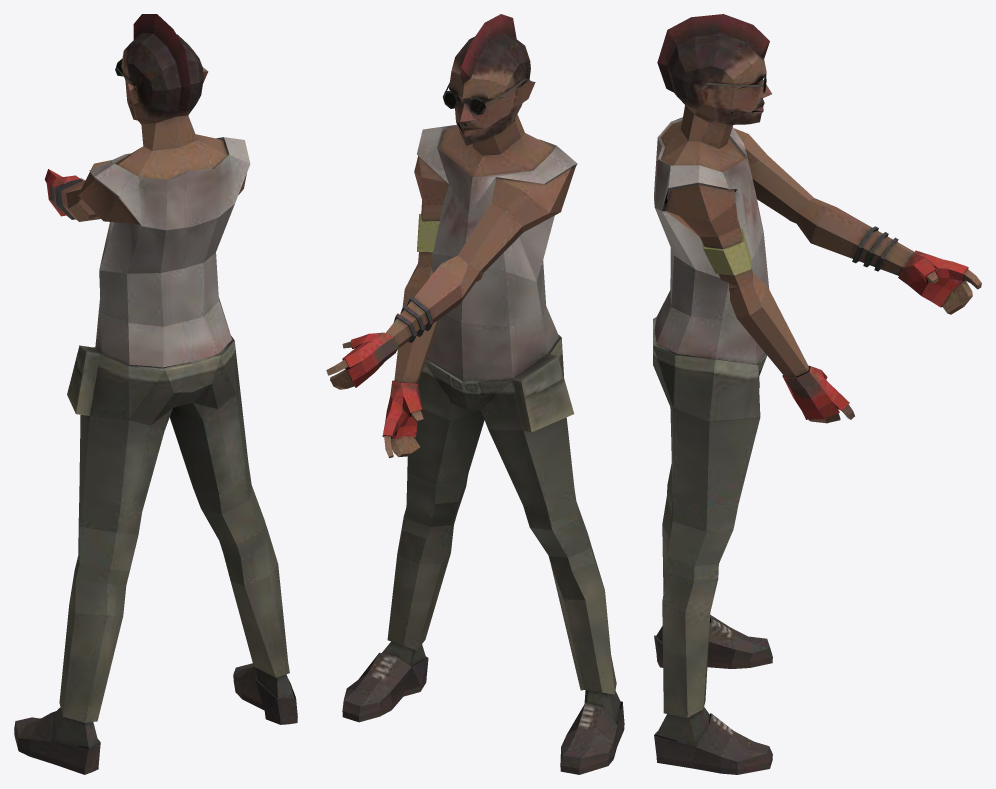
File: inf_enemy_0.glb
3 renders of one model, left to right at view 1: azimuth 30°, elevation 25°; view 2: azimuth 150°, elevation 25°; view 3: azimuth 270°, elevation 25°, orthographic.
Visible parts, largest first — view 1: inf_enemy_0; view 2: inf_enemy_0; view 3: inf_enemy_0.
Boxes of the visible parts, box(x1,y1,x2,y2) form: inf_enemy_0: box(14, 14, 297, 774); inf_enemy_0: box(326, 14, 624, 774); inf_enemy_0: box(653, 14, 981, 774).
Size of the model in its own units: 0.6806 by 1.75 by 0.7474.
1 material, 1 textured.
